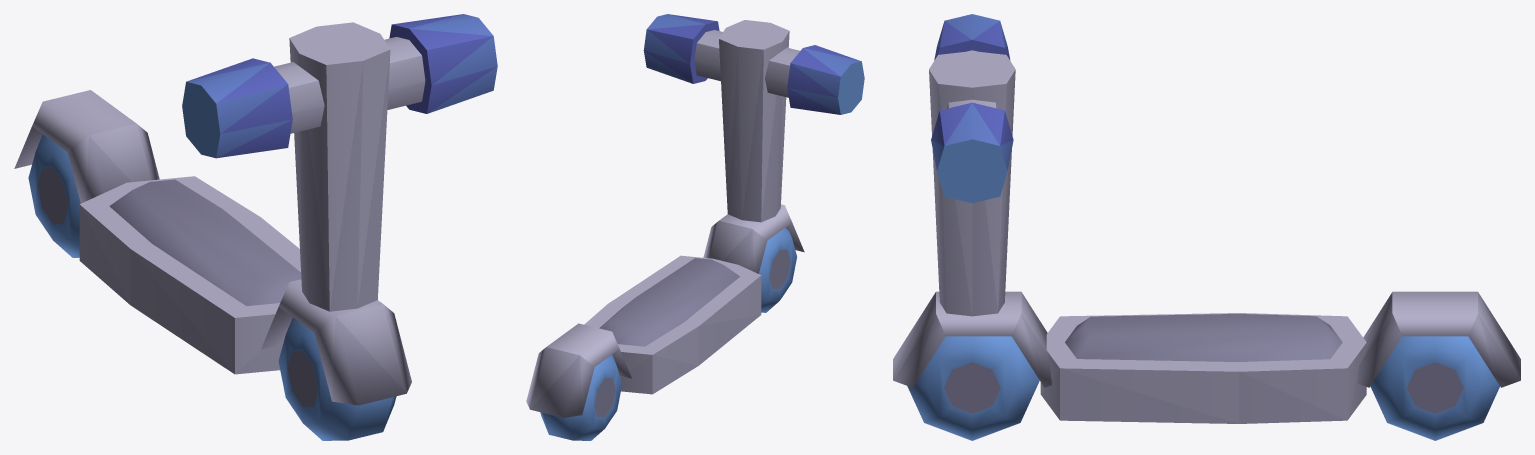
The picture shows the model from 3 angles, left to right: view 1: azimuth 30°, elevation 25°; view 2: azimuth 150°, elevation 25°; view 3: azimuth 270°, elevation 25°; orthographic projection. The views are drawn at different scales.
Visible parts, largest first — view 1: scooter; view 2: scooter; view 3: scooter.
Part boxes in pixels (x1=…): scooter: x1=14, y1=14, x2=497, y2=440; scooter: x1=526, y1=14, x2=864, y2=440; scooter: x1=893, y1=14, x2=1520, y2=440.
Bounding box in the file's own units: 0.6649 × 0.9 × 1.41.
